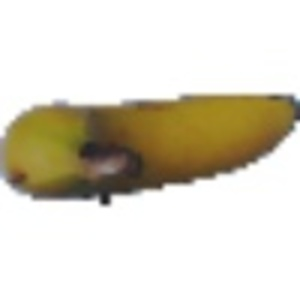banana: (2, 91, 293, 198)
